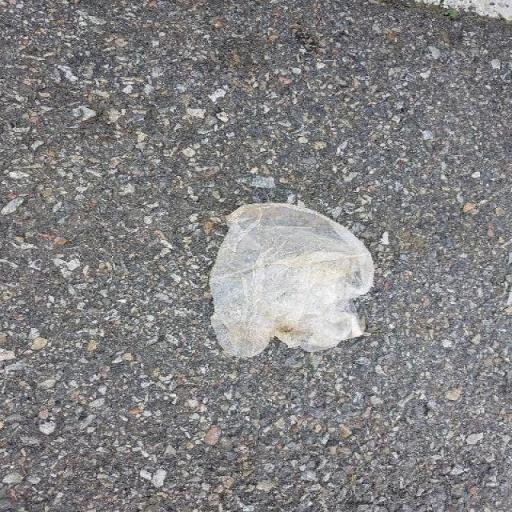plastic-bag: (203, 197, 380, 363)
